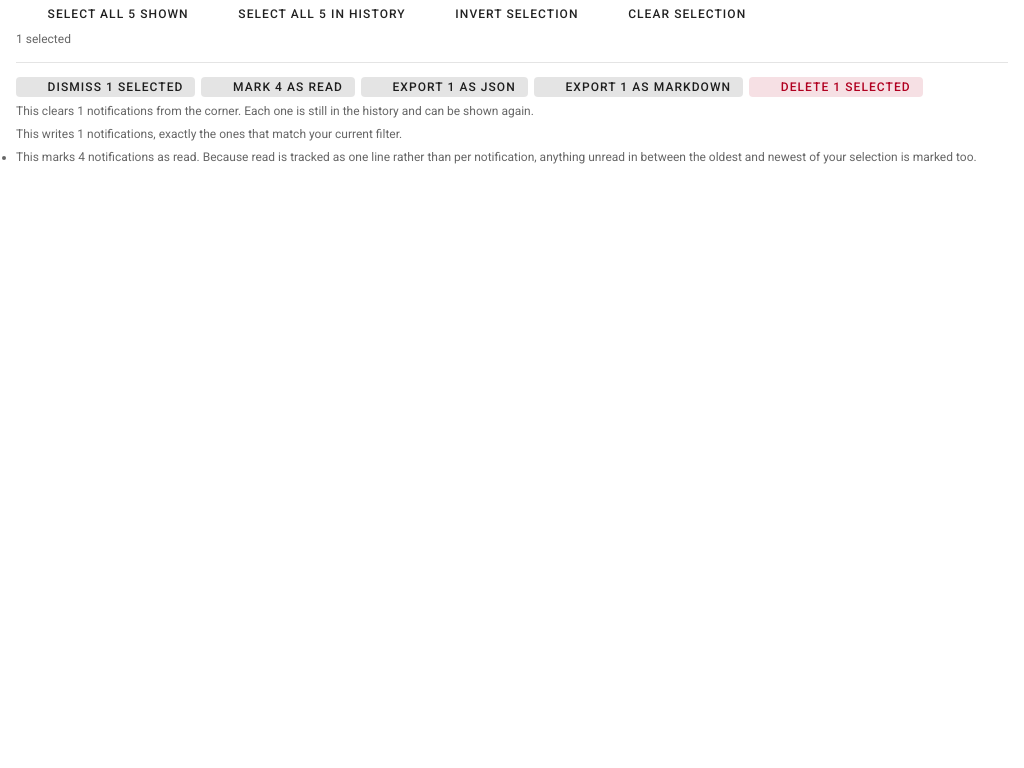
Test: delete: behind the gate, not a plain click › lists the affected notices by name in the reviewable preview
Click the button "Delete 1 selected": {"x": 836, "y": 87} [749,77,923,97]
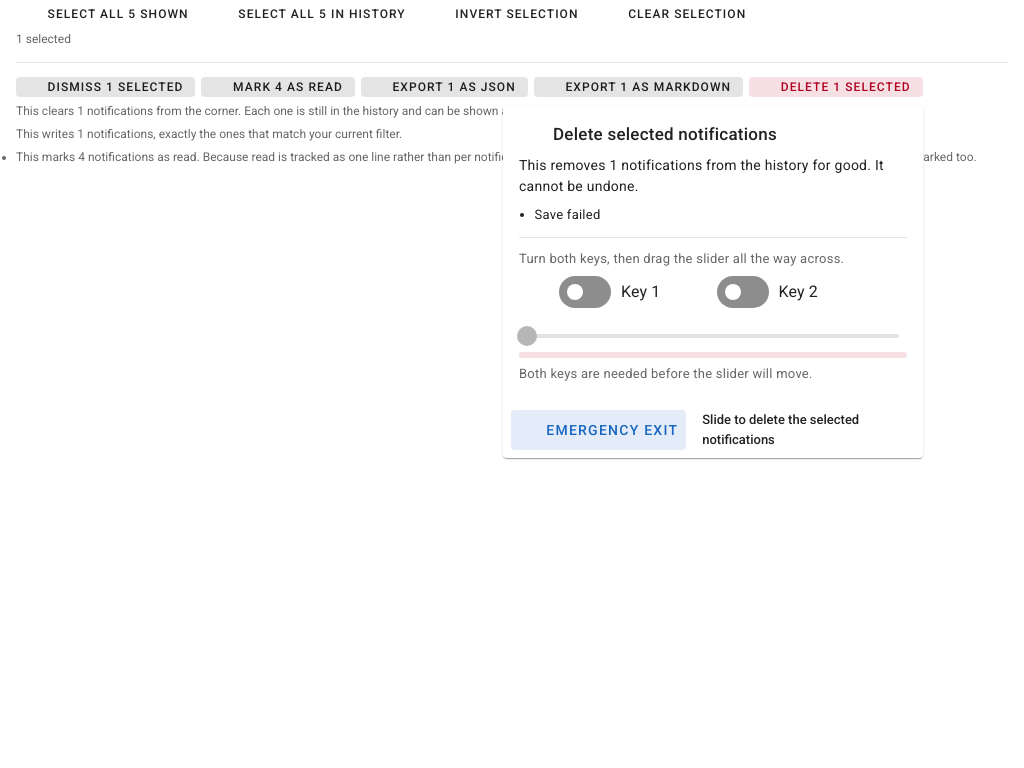
Check: the text "Save failed" is shown, box [535,207,600,222]
